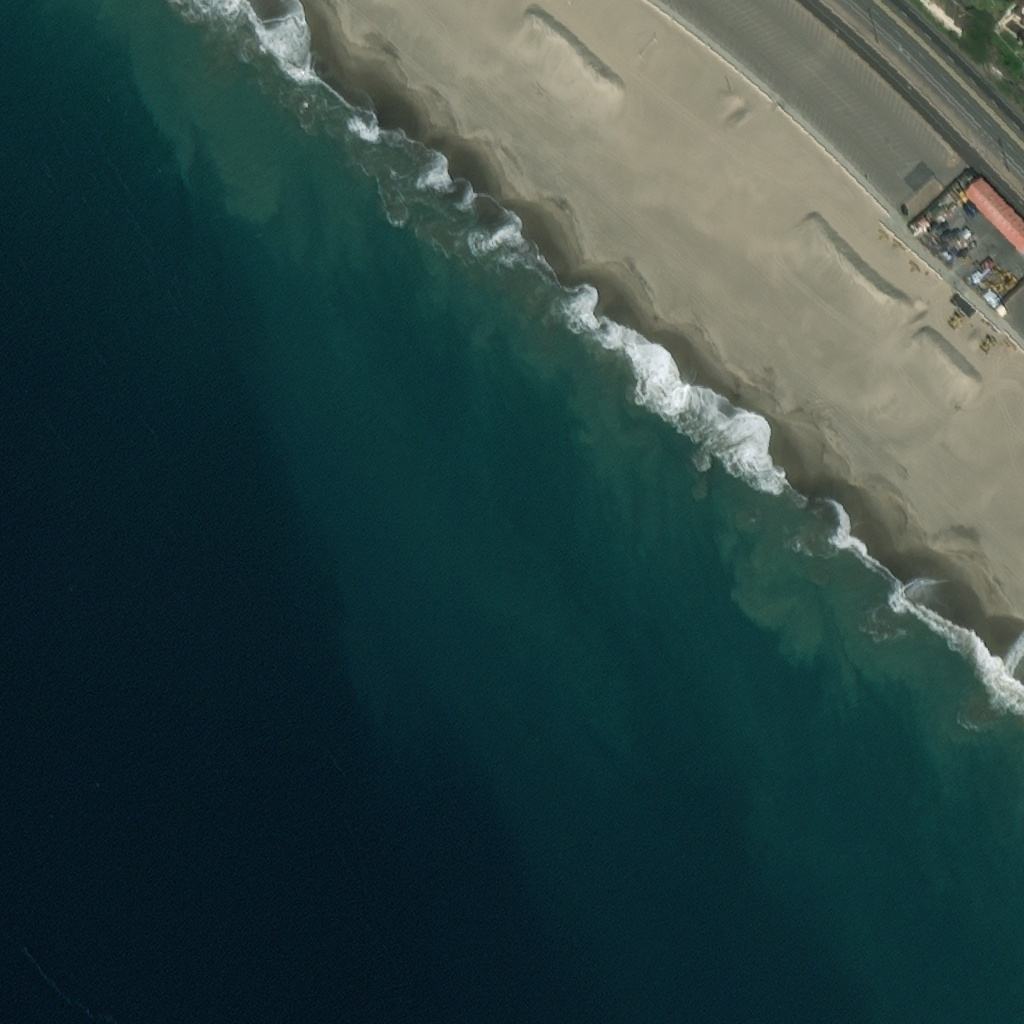0 no-damage: (965, 178, 1023, 257), (980, 287, 1006, 315), (916, 216, 930, 230)
